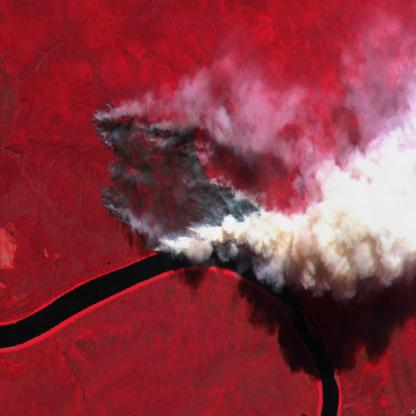fire: (86, 94, 298, 256)
